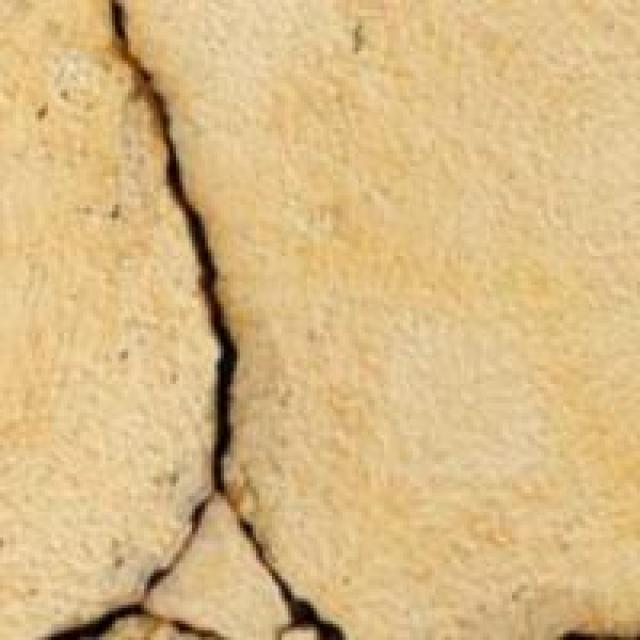Crack: (45, 0, 406, 637)
